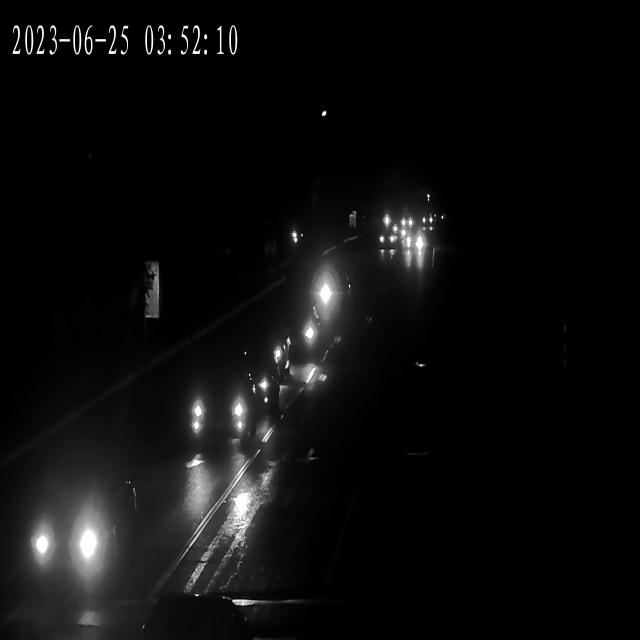Car: (2, 457, 142, 609), (178, 360, 260, 449), (122, 595, 269, 640), (226, 335, 280, 429), (269, 306, 325, 362), (251, 329, 300, 390), (405, 233, 427, 252), (377, 233, 398, 251), (374, 230, 395, 248), (388, 220, 406, 235), (416, 214, 434, 228), (400, 215, 418, 228), (396, 216, 412, 228)
